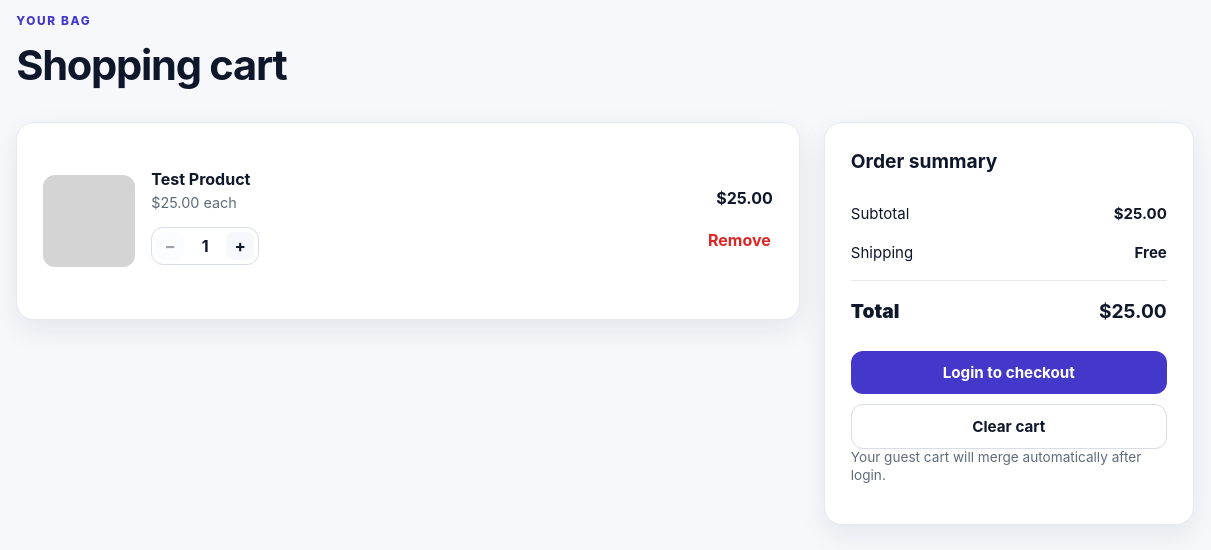
it: Cart › clears a guest cart
The width and height of the screenshot is (1211, 550).
Expected: the heading "Test Product" is shown, [151,169,250,189]
Click the button "Clear cart" at coordinates (1009, 426), box [851,404,1167,449]
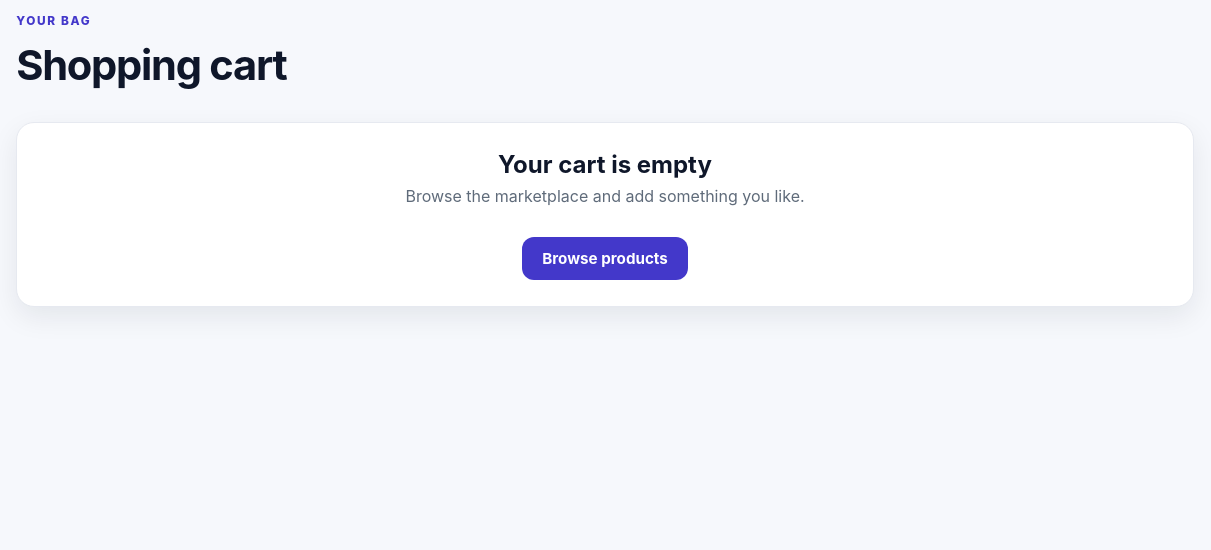
Expected: the heading "Your cart is empty" is shown, [498,150,712,179]
